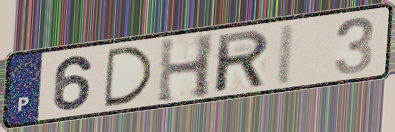3: (333, 16, 376, 75)
6: (52, 53, 95, 112)
D: (102, 44, 156, 110)
H: (155, 31, 217, 105)
I: (273, 21, 299, 88)
R: (215, 27, 271, 95)
